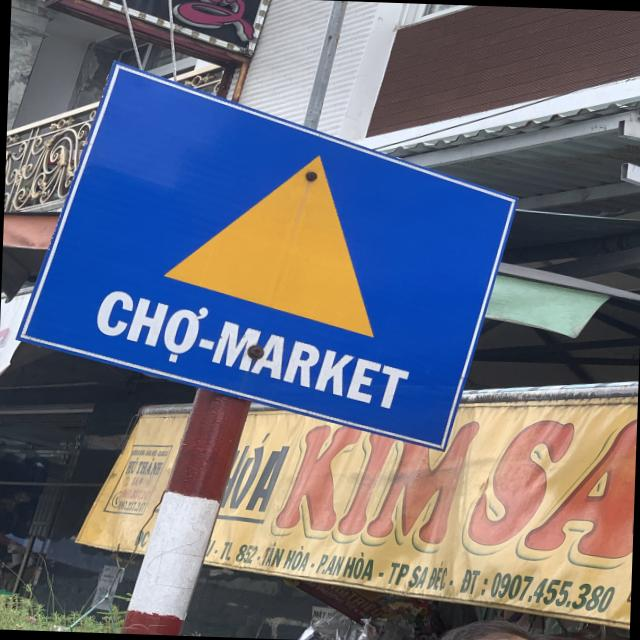Cho_Quay_Xe: (16, 68, 523, 450)
